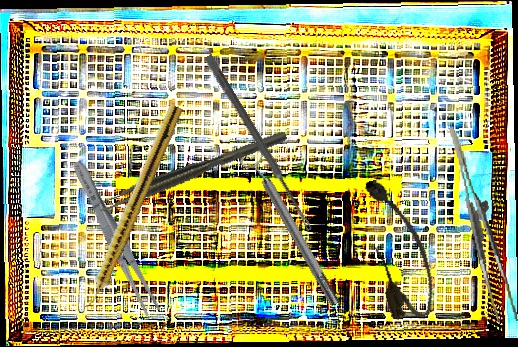Cannula: (356, 171, 442, 325)
Dressing Forceps: (66, 157, 164, 318)
Fixation Ring: (235, 143, 348, 312)
Handpiece: (79, 102, 184, 313)
Surgical Spoon: (202, 53, 316, 233)
Tissue Forceps: (96, 130, 290, 215), (449, 122, 518, 327)
